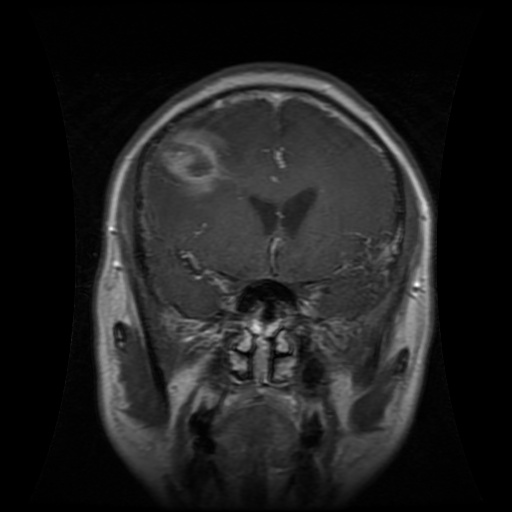glioma: (147, 115, 246, 197)
